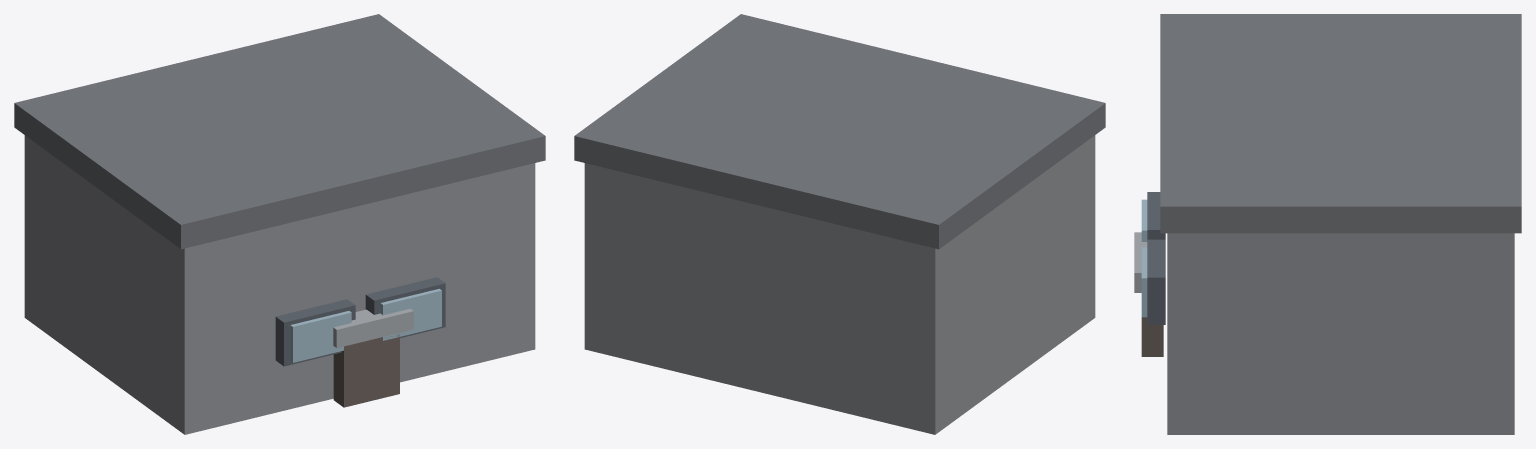
Rendered from building-garage.glb.
3 views of the same model, side by side, from view 1: azimuth 30°, elevation 25°; view 2: azimuth 150°, elevation 25°; view 3: azimuth 270°, elevation 25° (orthographic). The views are drawn at different scales.
Visible parts, largest first — view 1: world; view 2: world; view 3: world.
Boxes of the visible parts, box(x1,y1,x2,y2) form: world: box(14, 14, 545, 434); world: box(574, 14, 1105, 434); world: box(1134, 14, 1521, 434).
Size of the model in its own units: 1.25 by 0.7 by 1.06.
